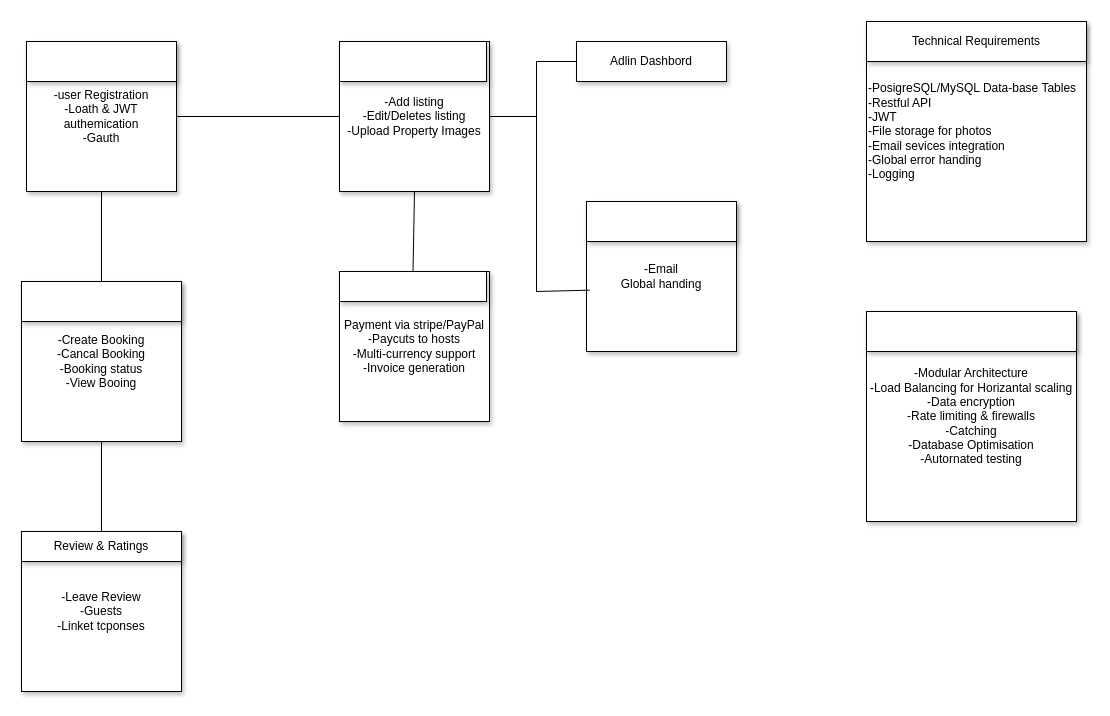
The diagram is 1110 pixels wide and 716 high, and some of its shapes have lost their labels. Each missing label, with the centre of its shape:
Booking Management: point (102, 302)
Non-functional requirements: point (972, 332)
Notification system: point (662, 222)
Payment Infegration: point (413, 287)
Property Listings Management: point (413, 62)
User Management: point (102, 62)
